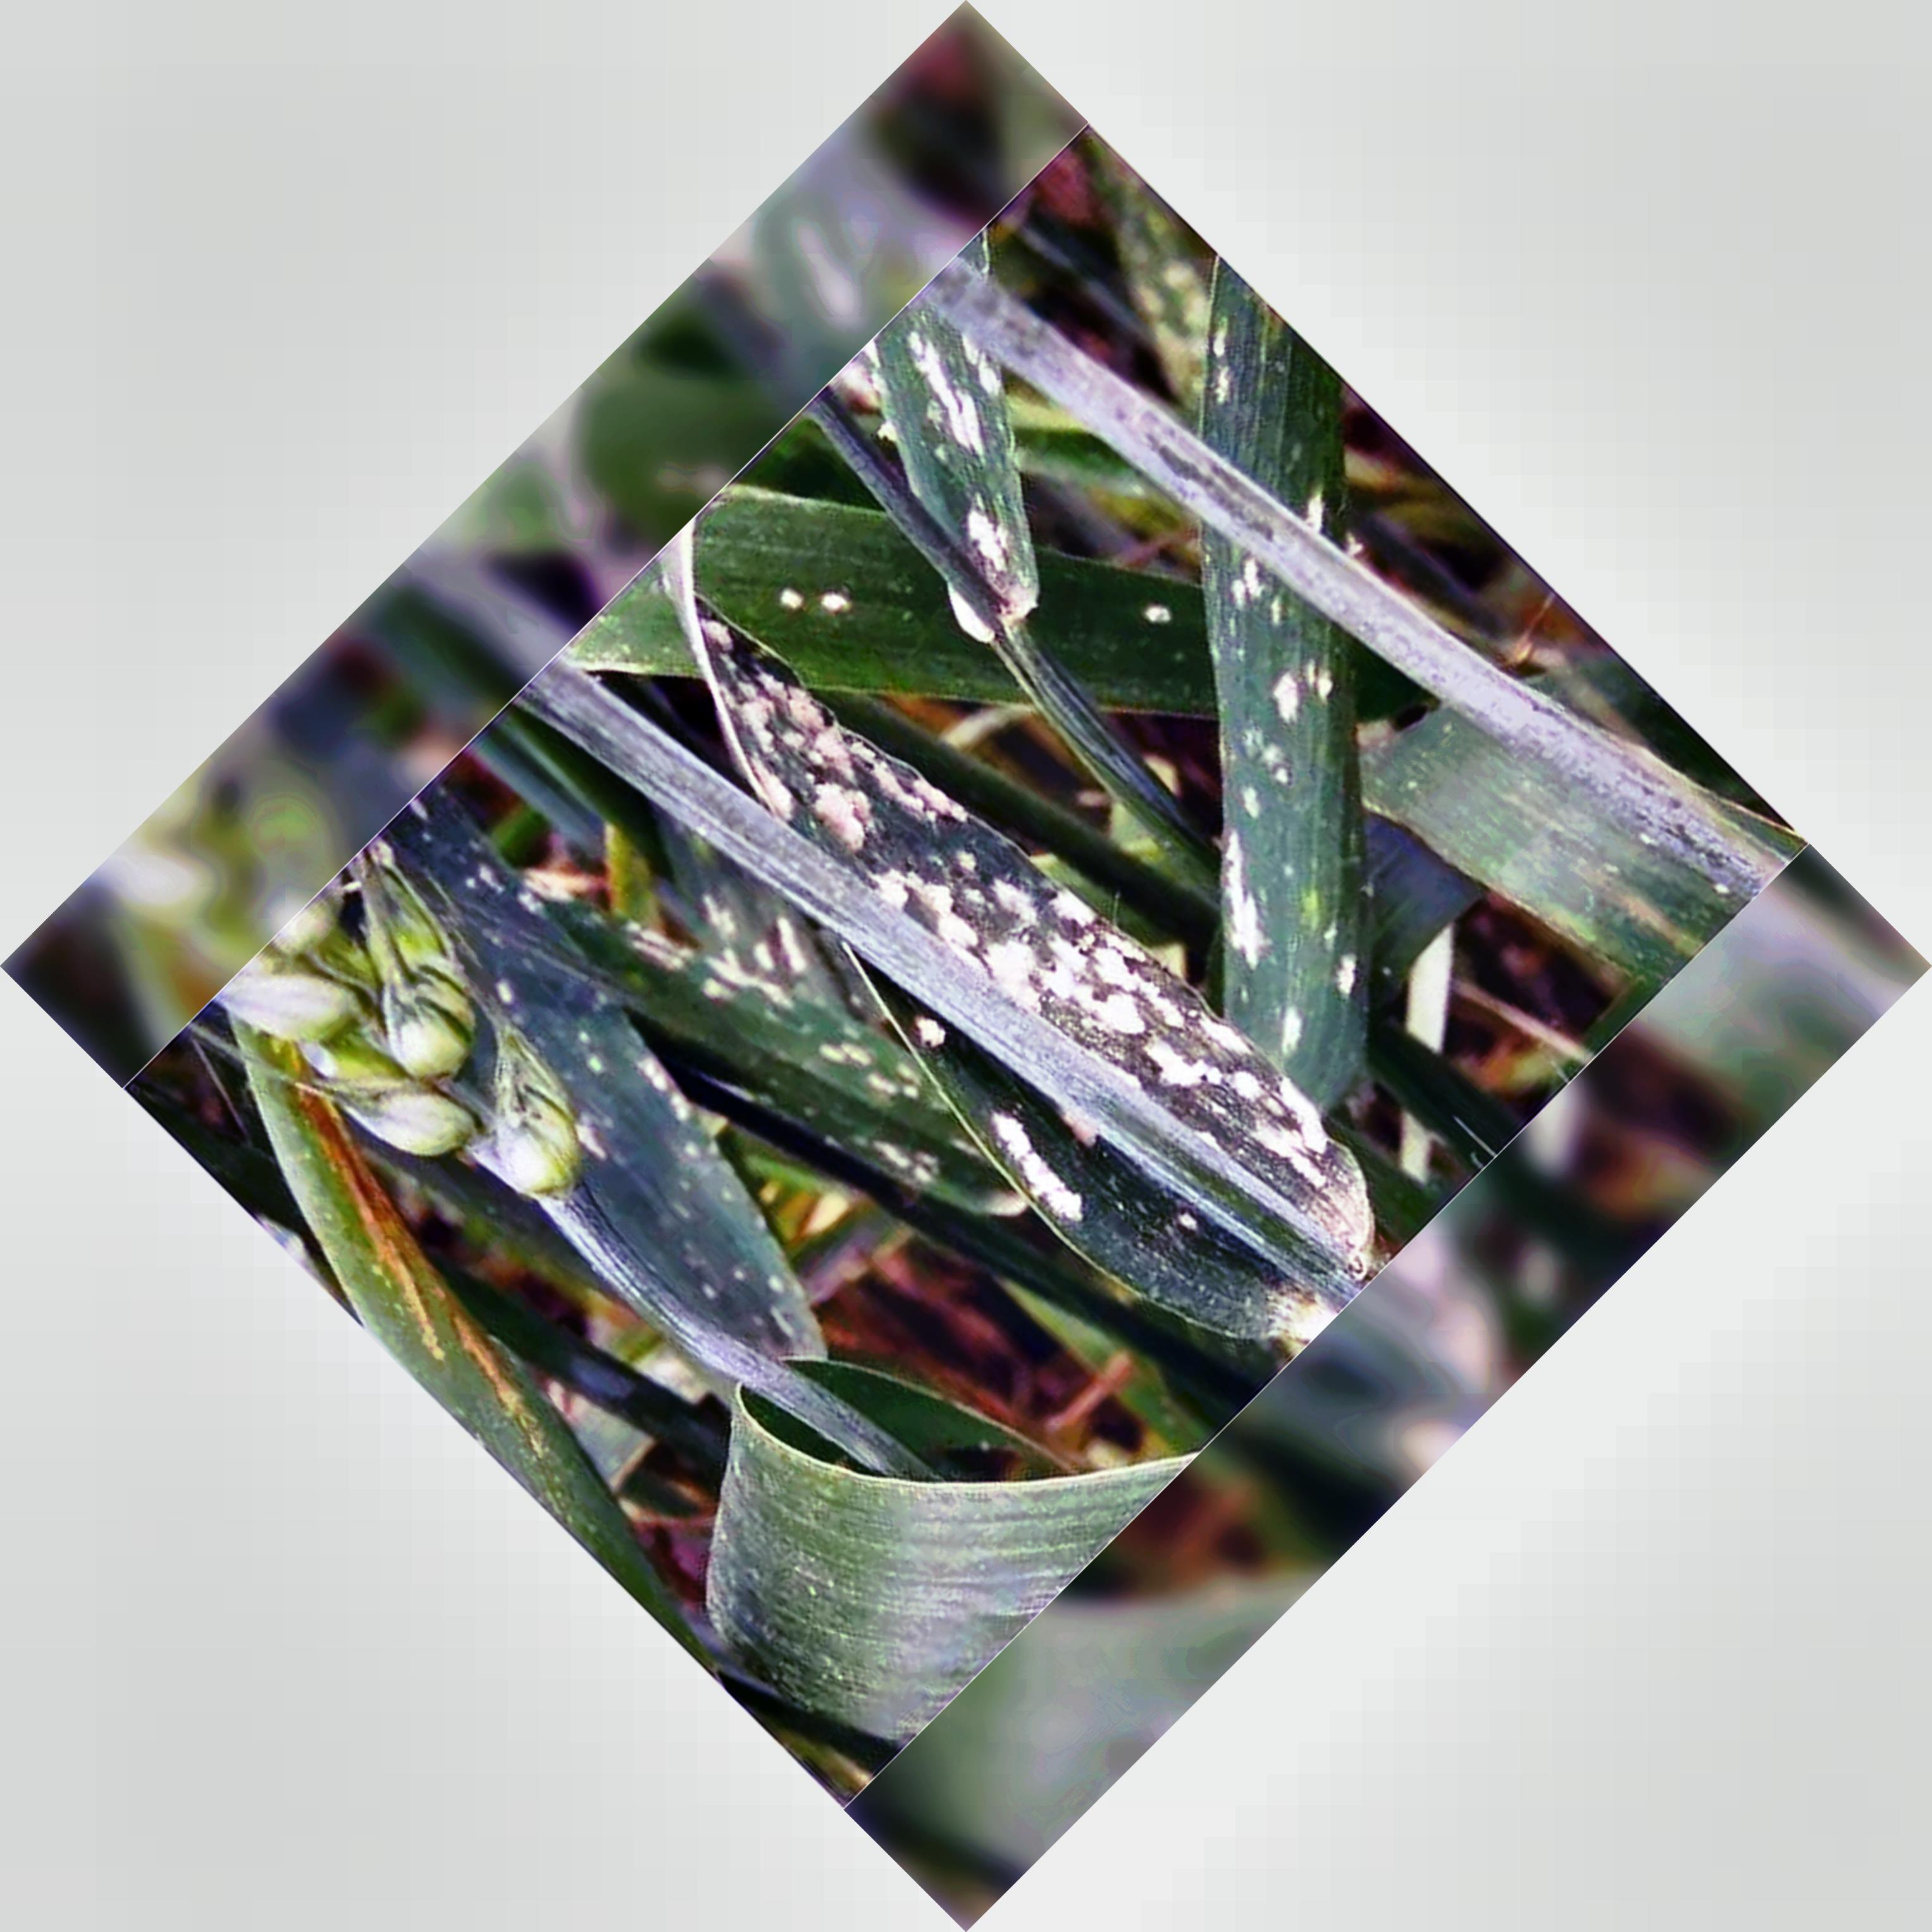Powdery Mildew: (743, 679, 1378, 1235)
